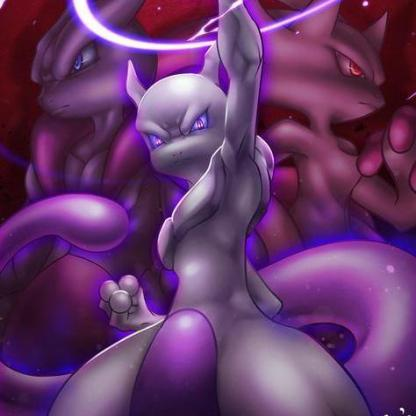Mewtwo: (1, 1, 367, 416)
